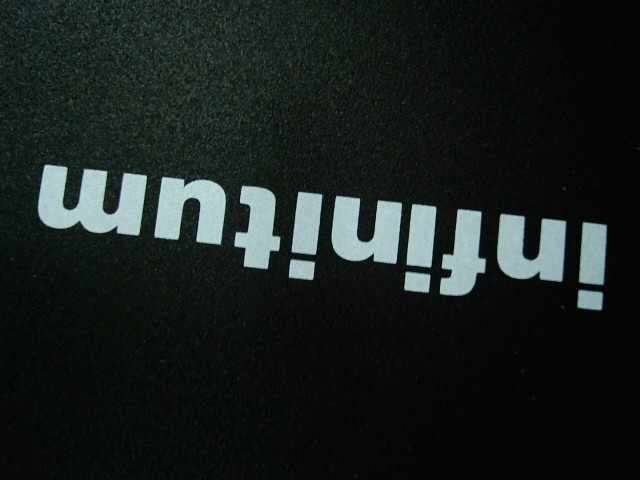BK_infinitum: (27, 155, 618, 322)
